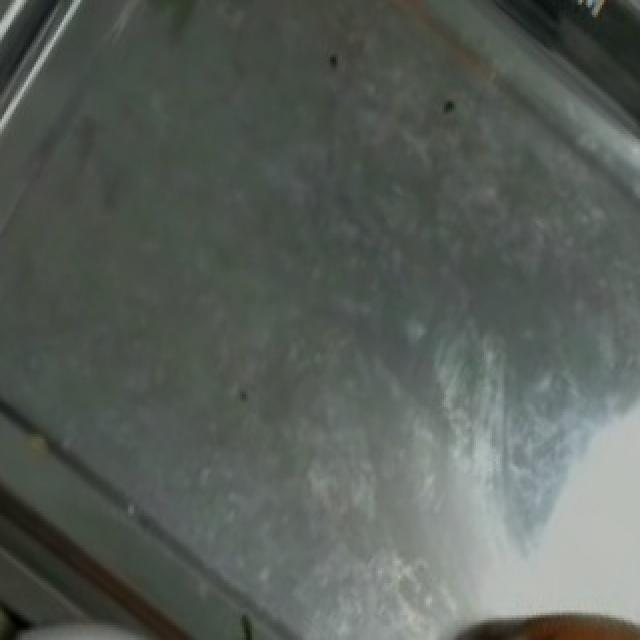fruit: (458, 590, 640, 640)
